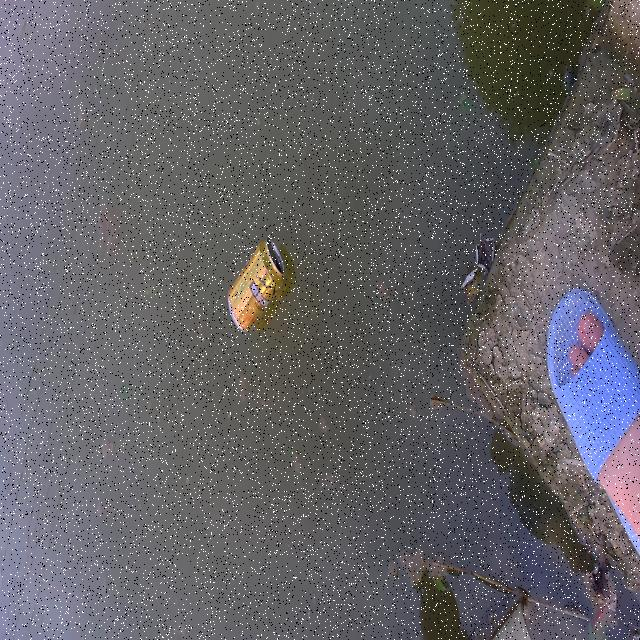Can: (223, 229, 287, 335)
